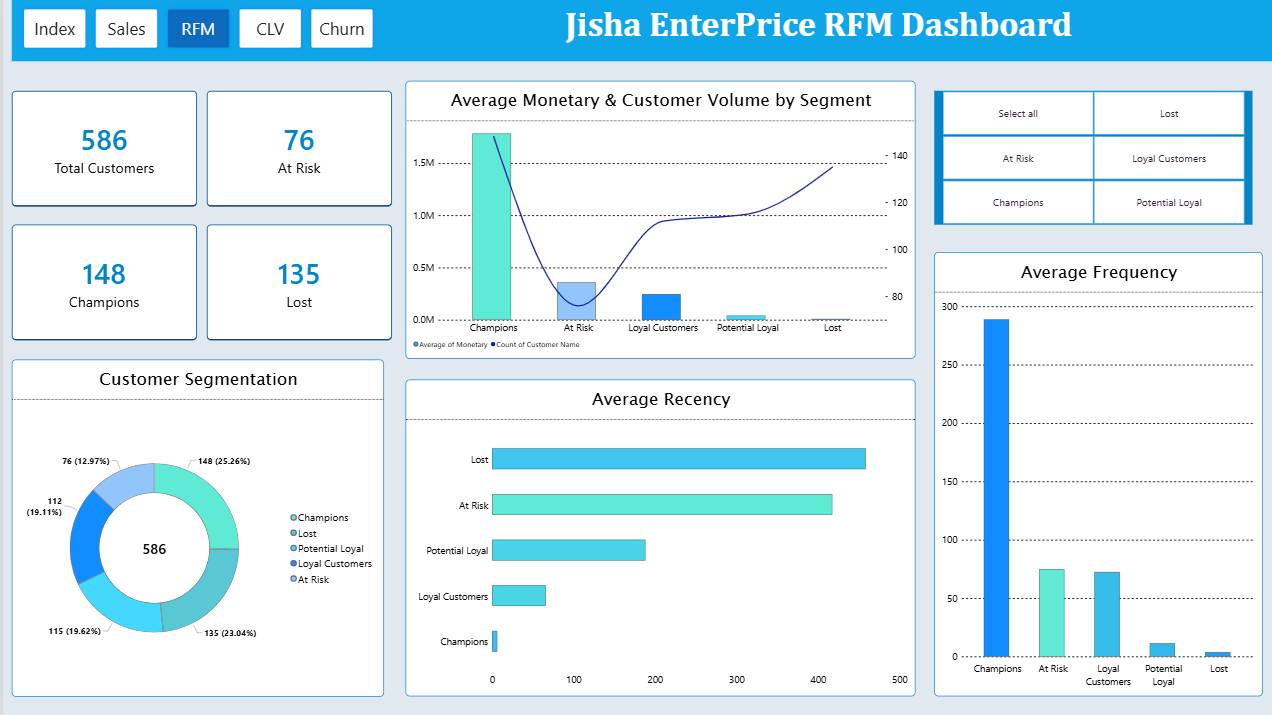

The page's visual inventory and layout, read from the dashboard file:
{"tool":"powerbi","page":{"name":"RFM","canvas":[3000,1700],"ordinal":2},"visuals":[{"type":"cardVisual","fields":{"Data":["Count(Cleaned_File.Customer Name)"]},"box":[21.2,221.2,436.4,272.7],"z":0},{"type":"donutChart","title":"Customer Segmentation","fields":{"Y":["Customer RFM.Customer Count"],"Category":["Customer RFM.Segment"]},"box":[21.2,851.5,875.8,793.9],"z":1000},{"type":"clusteredColumnChart","title":"Average Frequency","fields":{"Category":["Customer RFM.Segment"],"Y":["Avg(Customer RFM.Frequency)"]},"box":[2190.9,600,772.7,1045.5],"z":2000},{"type":"cardVisual","fields":{"Data":["Customer RFM.Champions"]},"box":[21.2,536.4,436.4,272.7],"z":3000},{"type":"cardVisual","fields":{"Data":["Customer RFM.At Risk"]},"box":[478.8,221.2,436.4,272.7],"z":4000},{"type":"cardVisual","fields":{"Data":["Customer RFM.Lost"]},"box":[478.8,536.4,436.4,272.7],"z":5000},{"type":"clusteredBarChart","title":"Average Recency","fields":{"Category":["Customer RFM.Segment"],"Y":["Avg(Customer RFM.Recency)"]},"box":[948.5,900,1200,745.5],"z":6000},{"type":"shape","box":[20,0,2980,151.4],"z":7000},{"type":"textbox","box":[837.1,14.3,2162.9,137.1],"z":8000},{"type":"lineClusteredColumnComboChart","title":"Average Monetary & Customer Volume by Segment","fields":{"Category":["Customer RFM.Segment"],"Y":["Avg(Customer RFM.Monetary)"],"Y2":["Count(Customer RFM.Customer Name)"]},"box":[948.5,197,1200,654.5],"z":9000},{"type":"slicer","fields":{"Values":["Customer RFM.Segment"]},"box":[2190.9,221.2,748.5,315.2],"z":10000},{"type":"pageNavigator","box":[40,20,837.5,107.5],"z":11000}]}

Visuals, with their boxes in screenshot pixels (x1, y1, x2, y2), scaled from the page's 3000x1700 canvas onto the 1272x715 screenshot:
cardVisual - Count(Cleaned_File.Customer Name): 9/93/194/208
"Customer Segmentation" donutChart: 9/358/380/692
"Average Frequency" clusteredColumnChart: 929/252/1257/692
cardVisual - Customer RFM.Champions: 9/226/194/340
cardVisual - Customer RFM.At Risk: 203/93/388/208
cardVisual - Customer RFM.Lost: 203/226/388/340
"Average Recency" clusteredBarChart: 402/379/911/692
shape: 8/0/1271/64
textbox: 355/6/1271/64
"Average Monetary & Customer Volume by Segment" lineClusteredColumnComboChart: 402/83/911/358
slicer - Customer RFM.Segment: 929/93/1246/226
pageNavigator: 17/8/372/54
